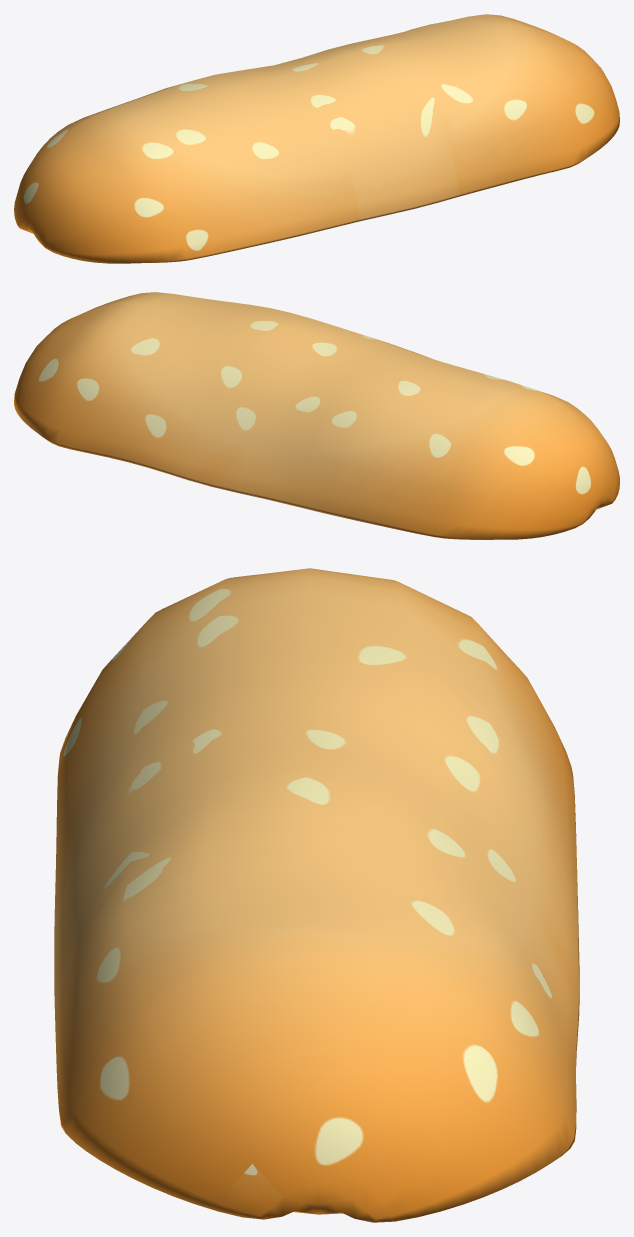
The model's file is bread1.fbx.
3 renders of one model, top to bottom at view 1: azimuth 30°, elevation 25°; view 2: azimuth 150°, elevation 25°; view 3: azimuth 270°, elevation 25°, orthographic. The views are drawn at different scales.
Visible parts, largest first — view 1: bread 1; view 2: bread 1; view 3: bread 1.
Boxes of the visible parts, x1,y1,x2,y2 form: bread 1: (14,14,619,263); bread 1: (14,292,619,539); bread 1: (54,568,579,1222).
Bounding box in the file's own units: 66.79 × 12.45 × 26.82.
1 material, 1 textured.
